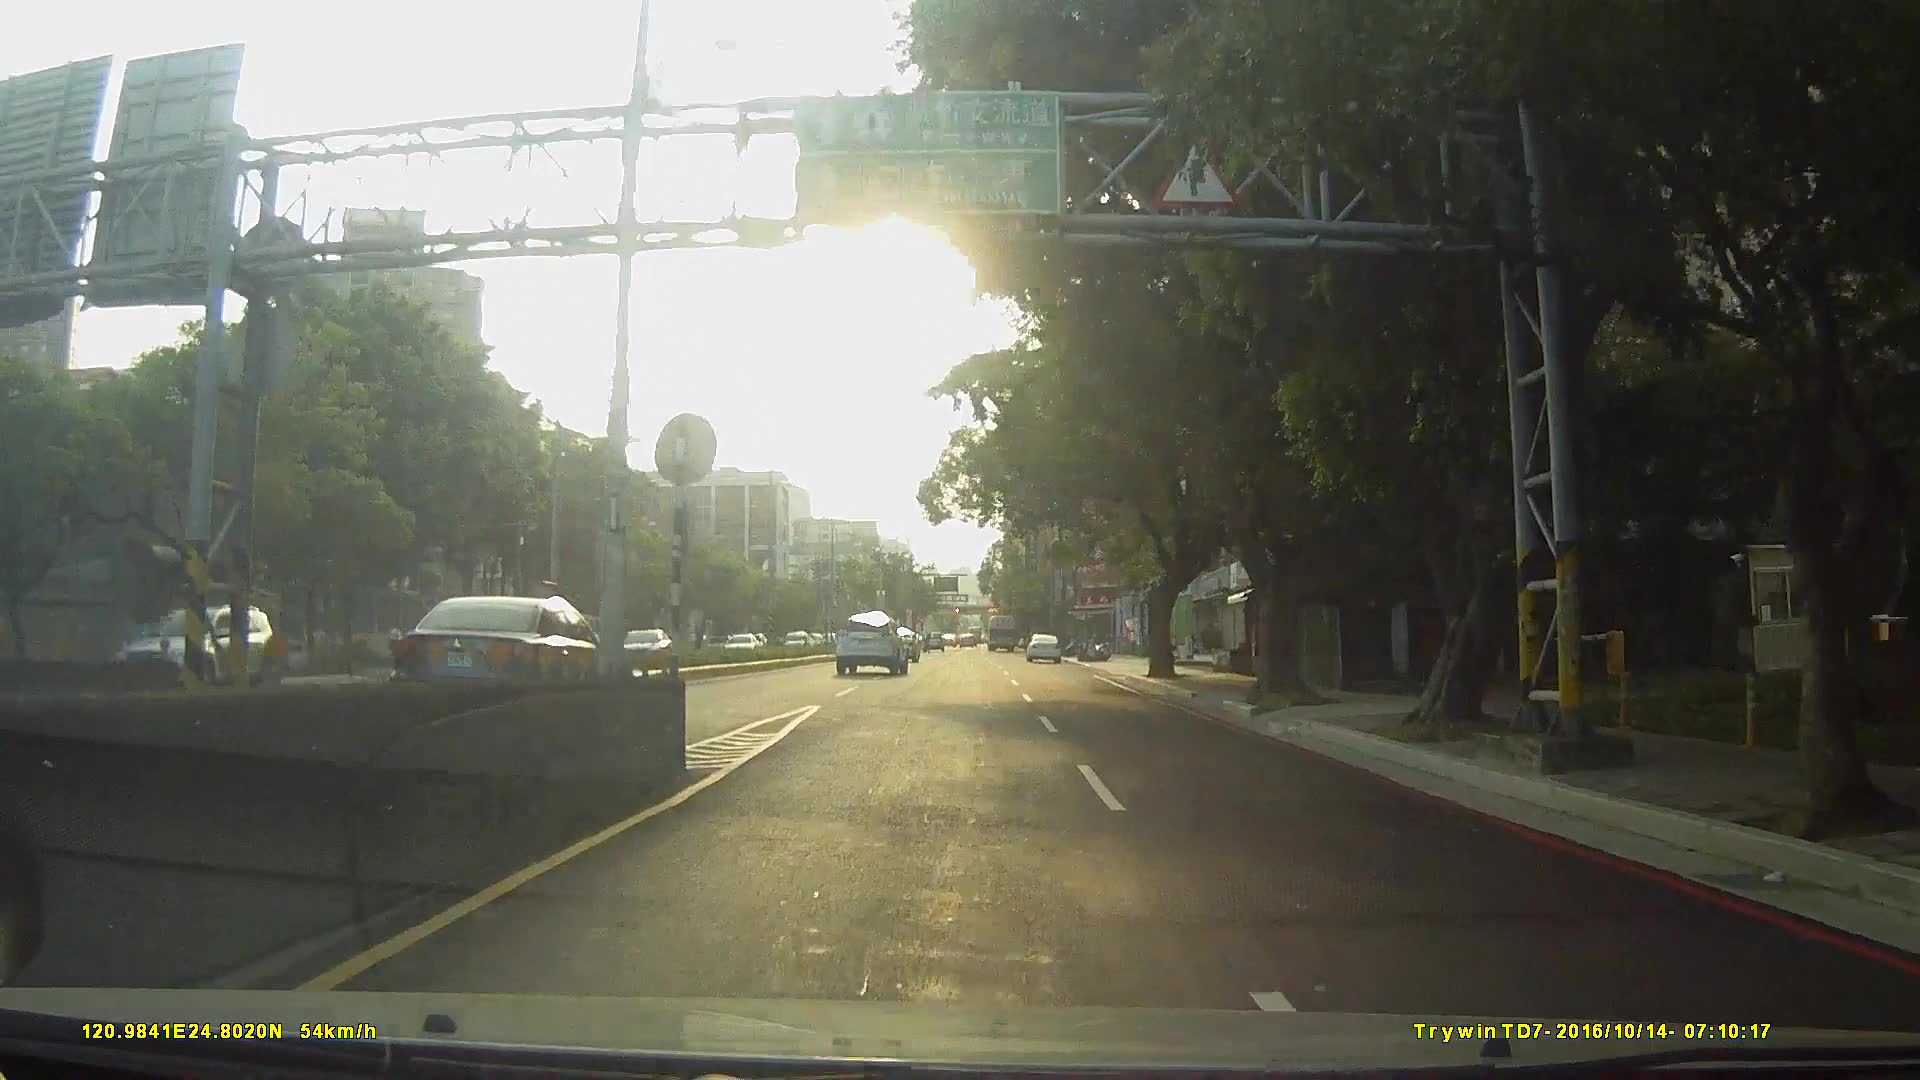pedestrian: (389, 623, 409, 676)
vehicle: (388, 593, 625, 721), (833, 610, 910, 677), (985, 612, 1017, 652), (1023, 630, 1062, 662)
